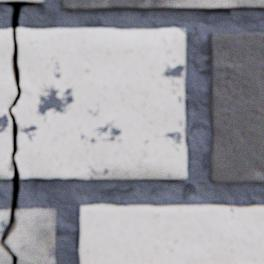brick: (78, 203, 263, 263), (208, 31, 263, 181), (62, 0, 263, 9), (18, 0, 43, 2)
broken_brick: (12, 27, 186, 178), (6, 207, 55, 263), (0, 28, 16, 177), (0, 209, 9, 236), (0, 243, 12, 263)
crack: (0, 0, 36, 263)
